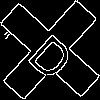D: (25, 25, 83, 84)
